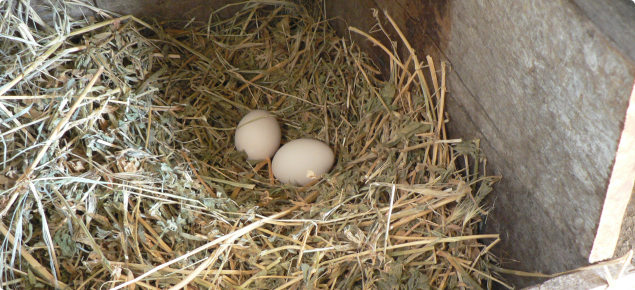Egg: (230, 107, 285, 160)
